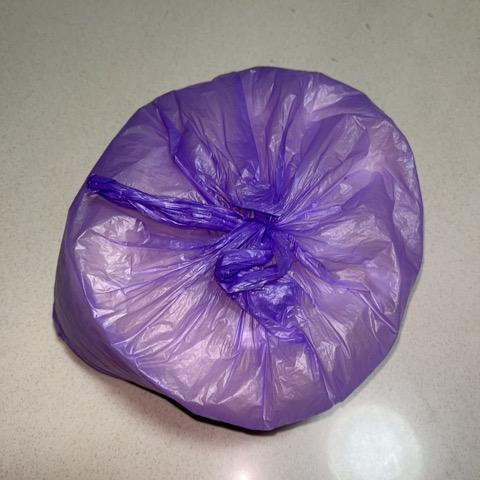rice: (50, 65, 426, 435)
